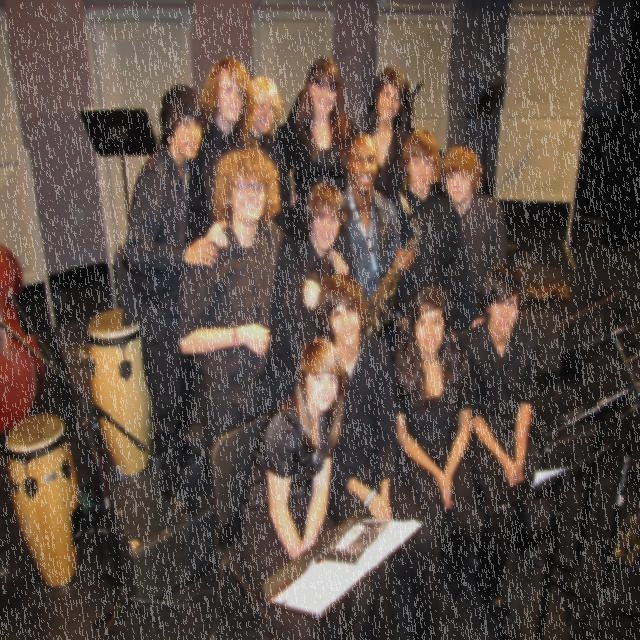pessoa: (180, 145, 348, 608), (314, 271, 440, 640), (121, 86, 226, 522), (238, 337, 373, 639), (462, 264, 549, 634), (388, 282, 484, 602), (266, 180, 350, 424), (270, 56, 360, 282), (331, 130, 417, 362), (394, 129, 464, 361), (442, 146, 508, 334), (198, 54, 256, 228), (364, 66, 418, 208), (246, 75, 292, 234)
